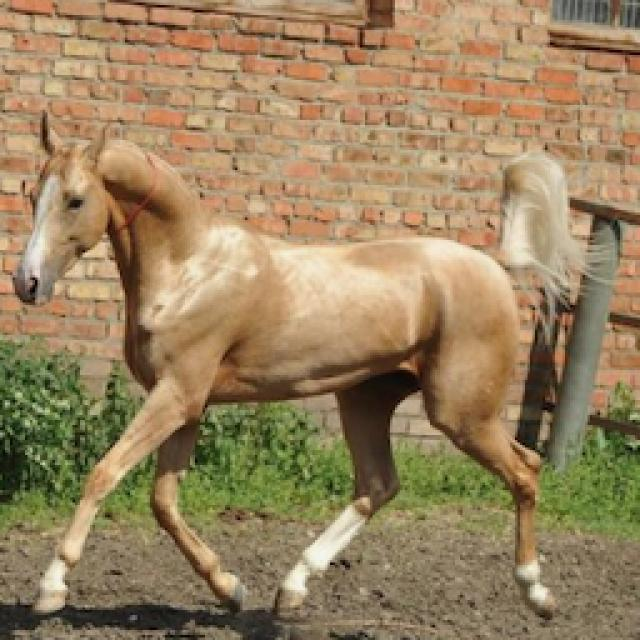Horse: (5, 102, 630, 630)
